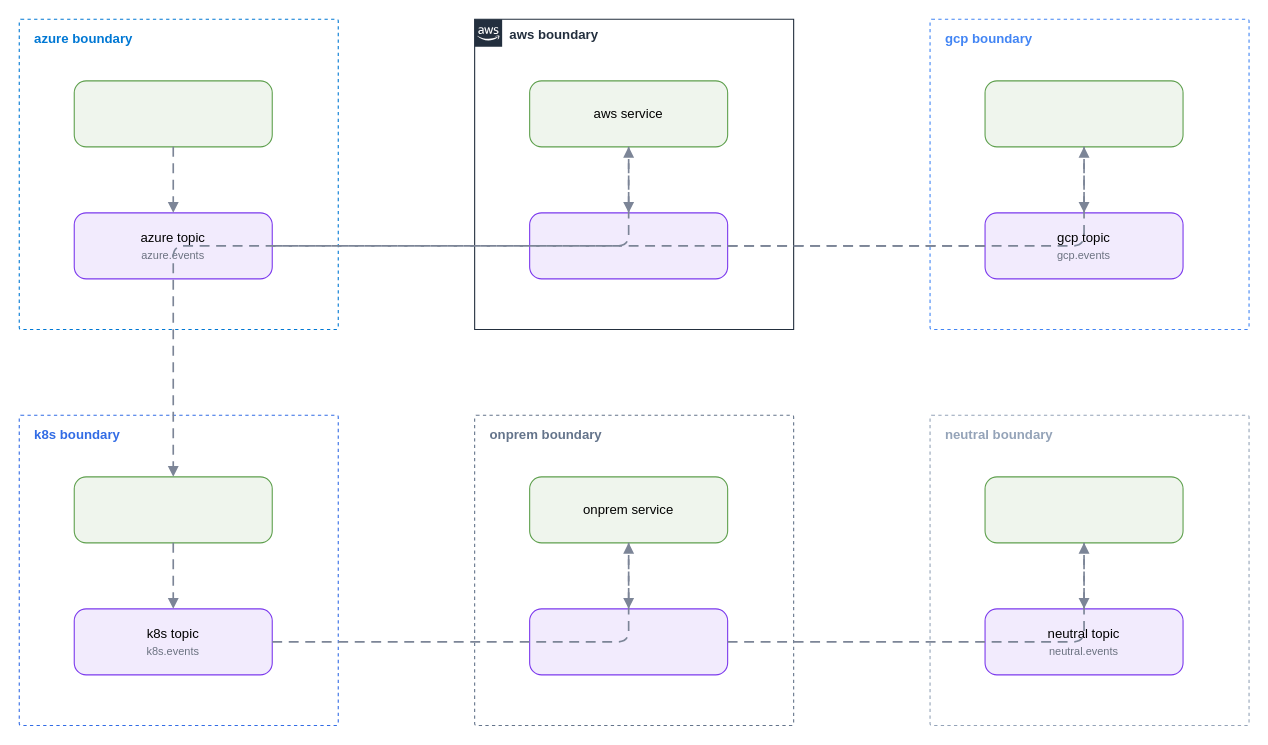
The diagram is 1268 pixels wide and 745 high, and some of its shapes have lost their labels. The shapes that lost their labels are listed below. From the top down, each one's centre as x and y in pixels, then its label:
At (x=172, y=113): "azure service".
At (x=1083, y=113): "gcp service".
At (x=628, y=245): "aws topic aws.events".
At (x=172, y=509): "k8s service".
At (x=1083, y=509): "neutral service".
At (x=628, y=641): "onprem topic onprem.events".
